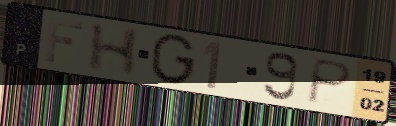1: (201, 40, 223, 91)
9: (263, 51, 300, 101)
F: (42, 16, 86, 65)
G: (148, 32, 199, 87)
H: (85, 22, 143, 78)
P: (303, 57, 356, 107)
